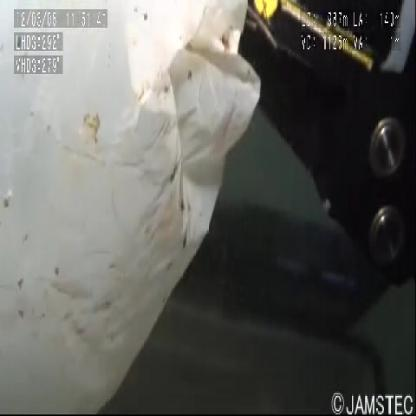Rov: (238, 2, 414, 311)
Rác: (0, 4, 265, 416)
